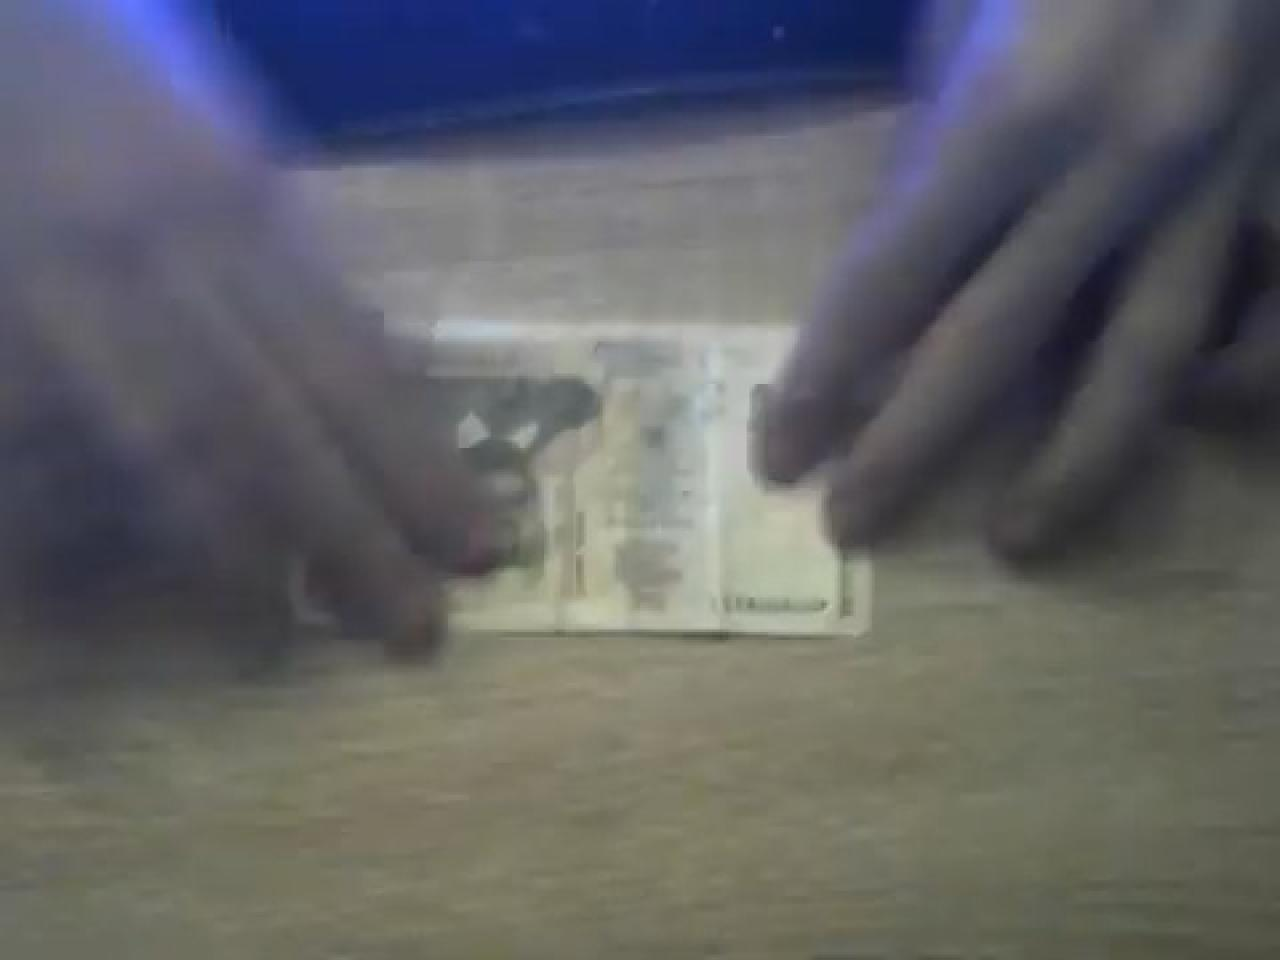10leva: (421, 315, 875, 640)
